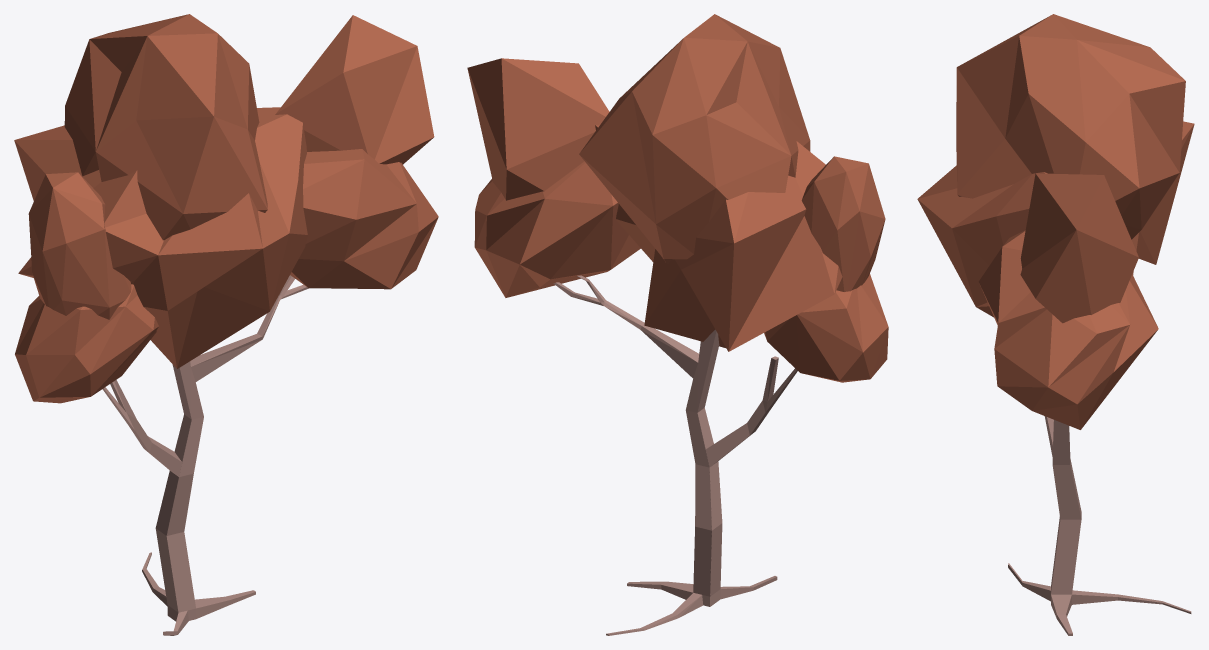
Rendered from world_4_tree_3.dae.
The picture shows the model from 3 angles, left to right: view 1: azimuth 30°, elevation 25°; view 2: azimuth 150°, elevation 25°; view 3: azimuth 270°, elevation 25°; orthographic projection. The views are drawn at different scales.
Visible parts, largest first — view 1: world_4_tree_3_leaves, world_4_tree_3_base; view 2: world_4_tree_3_leaves, world_4_tree_3_base; view 3: world_4_tree_3_leaves, world_4_tree_3_base.
Boxes of the visible parts, left/top/right/bottom form: world_4_tree_3_leaves: left=14, top=14, right=438, bottom=403; world_4_tree_3_base: left=102, top=275, right=308, bottom=635; world_4_tree_3_leaves: left=467, top=14, right=888, bottom=382; world_4_tree_3_base: left=553, top=275, right=797, bottom=635; world_4_tree_3_leaves: left=917, top=14, right=1194, bottom=429; world_4_tree_3_base: left=1008, top=416, right=1191, bottom=635.
Size of the model in its own units: 6.55 by 3.88 by 8.82.
